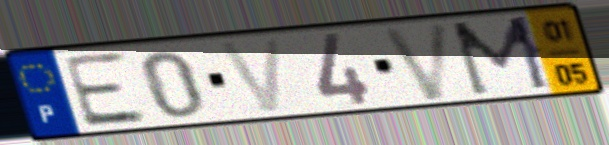0: (136, 48, 213, 120)
4: (312, 28, 375, 110)
E: (57, 49, 152, 130)
M: (446, 12, 557, 100)
V: (377, 19, 454, 104), (214, 35, 286, 115)
